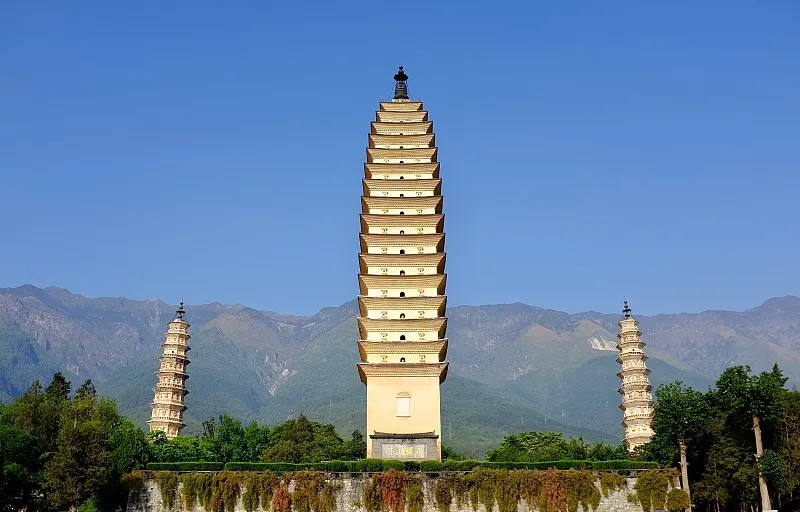ThreePagoda: (357, 65, 448, 460)
